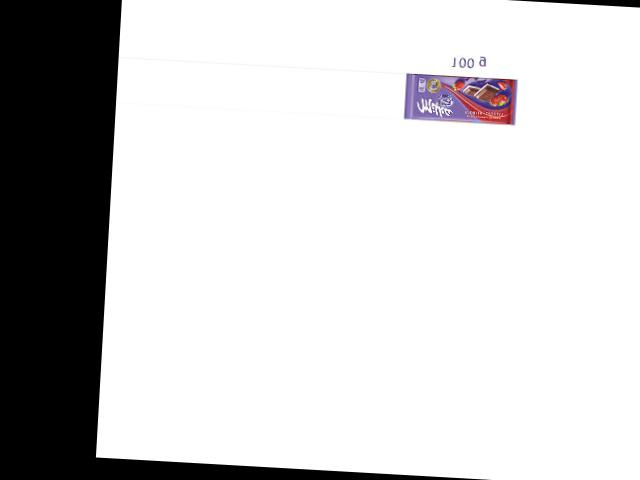chocolate: (404, 67, 518, 125)
